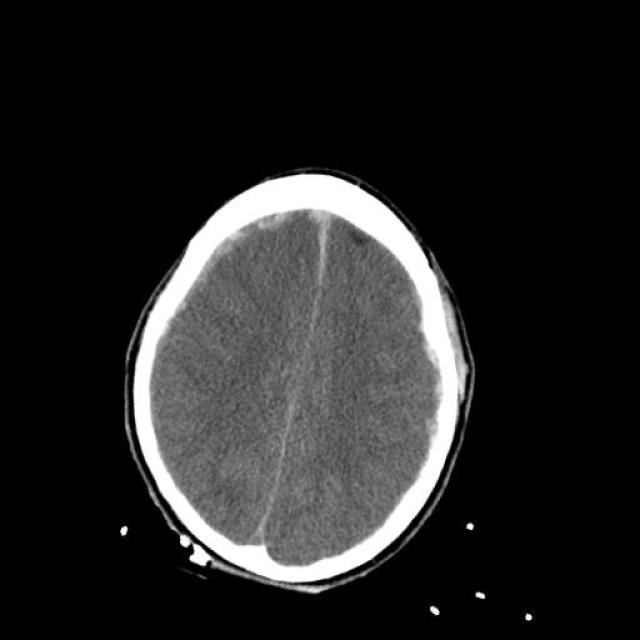Subdural: (124, 160, 324, 336), (377, 289, 513, 456), (285, 209, 364, 330)
